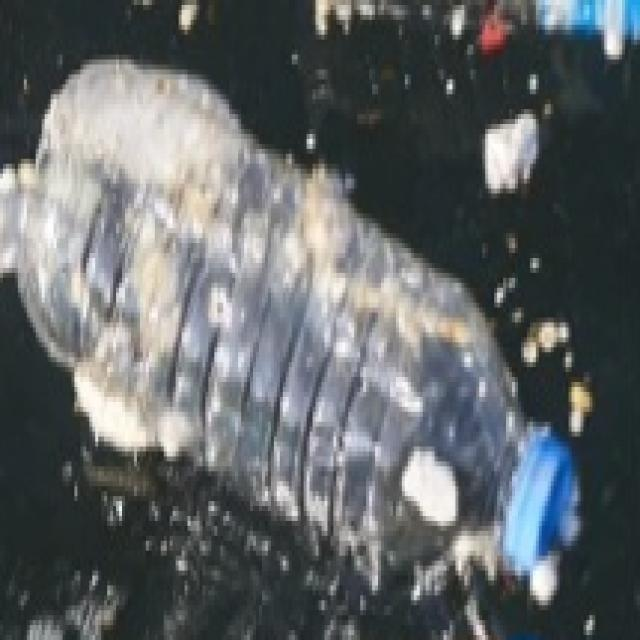plastic bottle: (12, 0, 640, 615)
